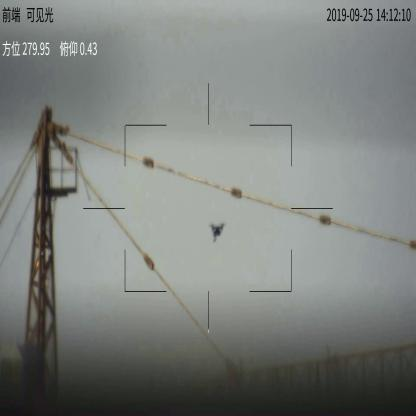uav: (208, 221, 228, 246)
